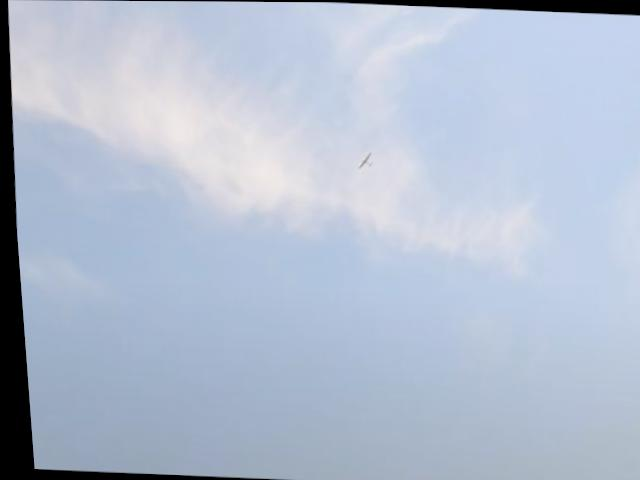iha: (353, 152, 372, 170)
